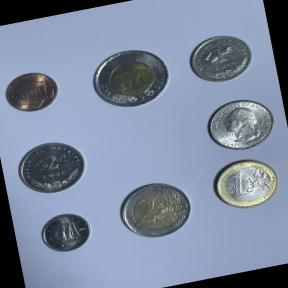coin: (82, 38, 180, 118), (111, 173, 199, 246), (198, 90, 282, 159), (9, 133, 94, 201), (205, 151, 285, 216), (31, 206, 99, 259), (0, 64, 65, 119)
